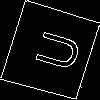U: (25, 25, 82, 74)
